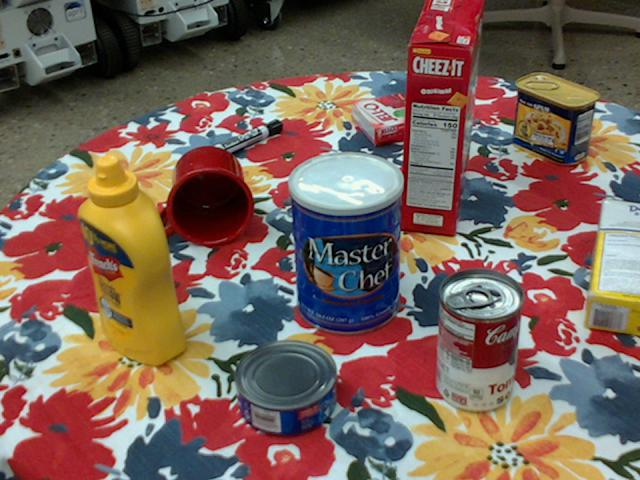cracker_box: (402, 0, 485, 234)
gelatin_box: (349, 93, 426, 146)
large_marker: (204, 117, 281, 160)
master_chef_can: (287, 152, 402, 336)
mug: (153, 145, 255, 248)
mustard_bottle: (77, 155, 187, 364)
potted_meat_can: (513, 72, 599, 163)
sugar_box: (584, 199, 639, 335)
tomato_soup_can: (436, 267, 523, 412)
tuna_fish_can: (230, 339, 333, 436)
